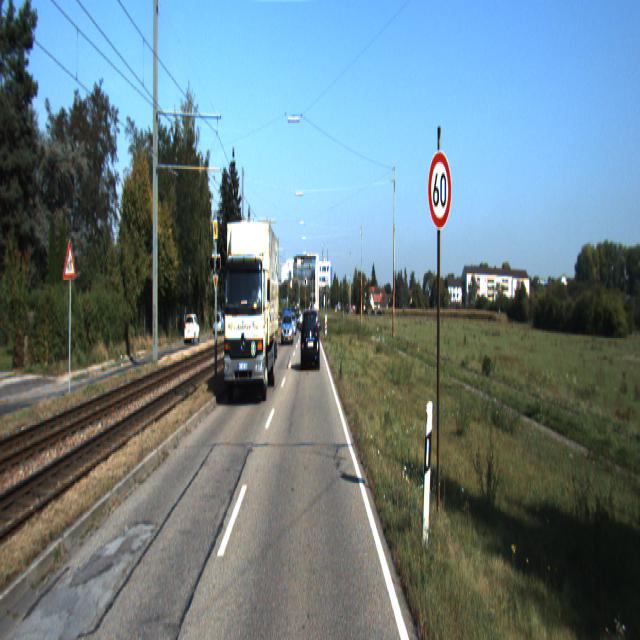Car: (223, 200, 280, 402), (301, 308, 320, 370), (184, 313, 200, 346), (282, 307, 294, 345)
